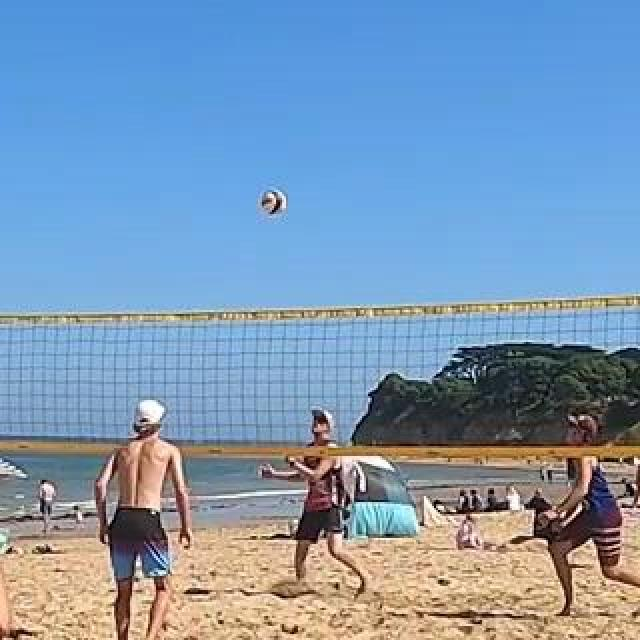volleyball: (261, 189, 287, 215)
